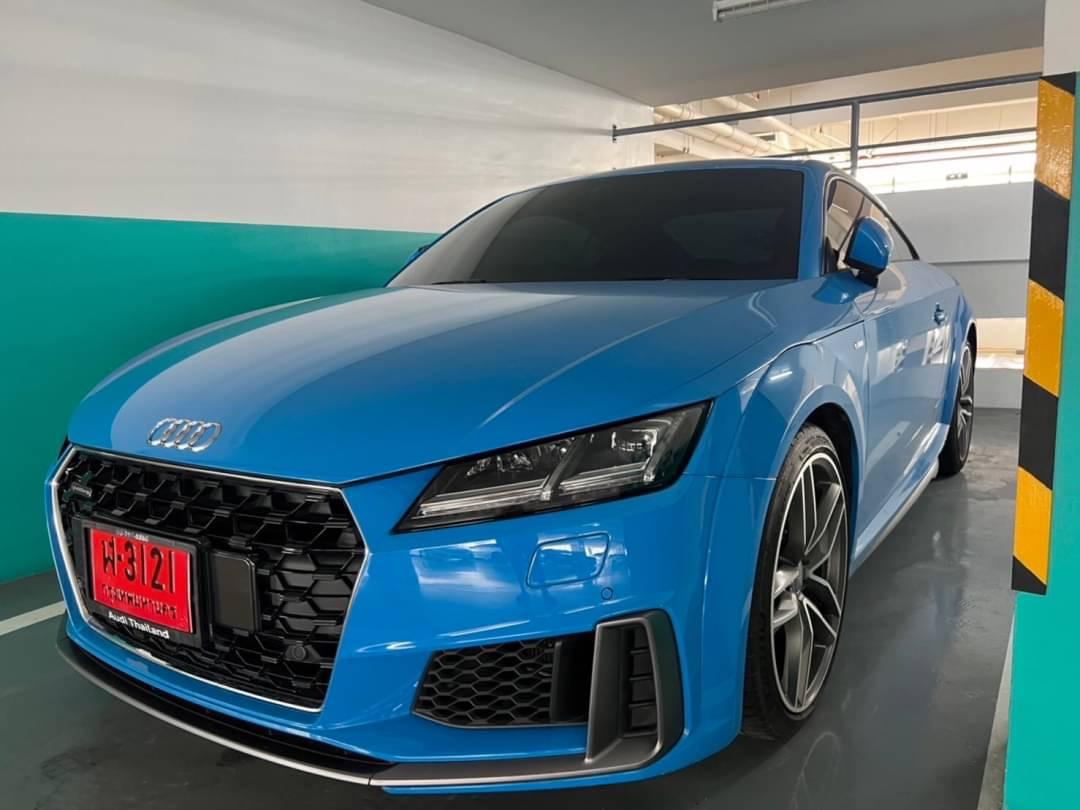license-plate: (73, 512, 206, 657)
